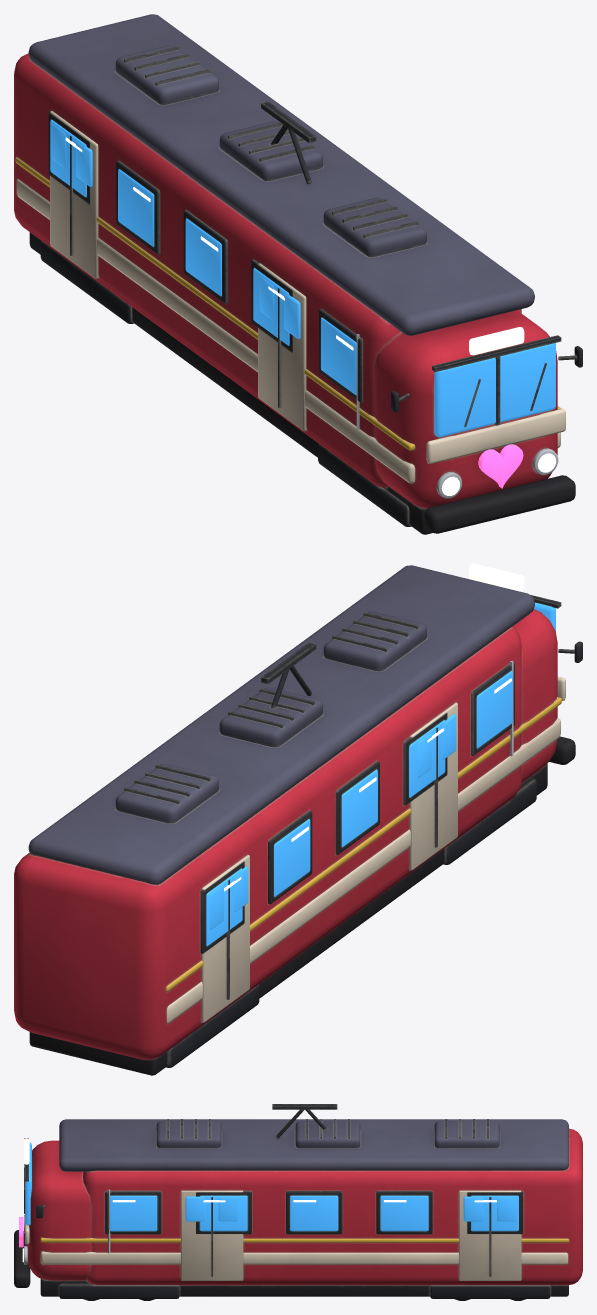
File: mu_train.glb
The picture shows the model from 3 angles, top to bottom: view 1: azimuth 30°, elevation 25°; view 2: azimuth 150°, elevation 25°; view 3: azimuth 270°, elevation 25°; orthographic projection. The views are drawn at different scales.
Parts seen in each view (by area): view 1: mu_train; view 2: mu_train; view 3: mu_train.
Part boxes in pixels (x1=…): mu_train: x1=14, y1=14, x2=582, y2=534; mu_train: x1=14, y1=563, x2=582, y2=1075; mu_train: x1=14, y1=1104, x2=582, y2=1300.
Bounding box in the file's own units: 3.14 × 4.34 × 12.28.
Materials: 11 (11 with a texture image).
